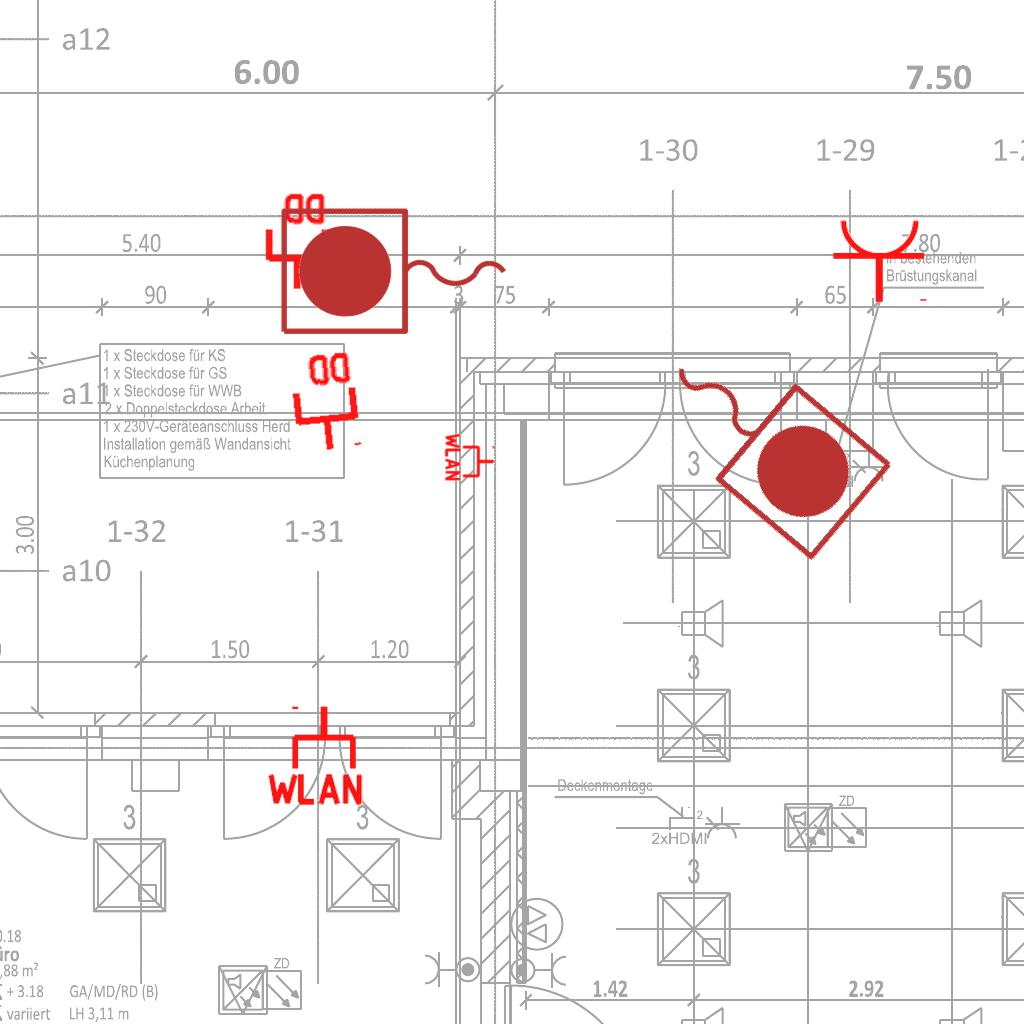Datenanschluss_zweifach: (283, 346, 364, 457), (261, 189, 330, 292)
Schukosteckdose_einfach: (831, 217, 931, 304)
WLAN: (263, 702, 367, 807), (444, 431, 496, 483)
Zugtaster: (626, 304, 906, 572), (273, 201, 517, 345)
